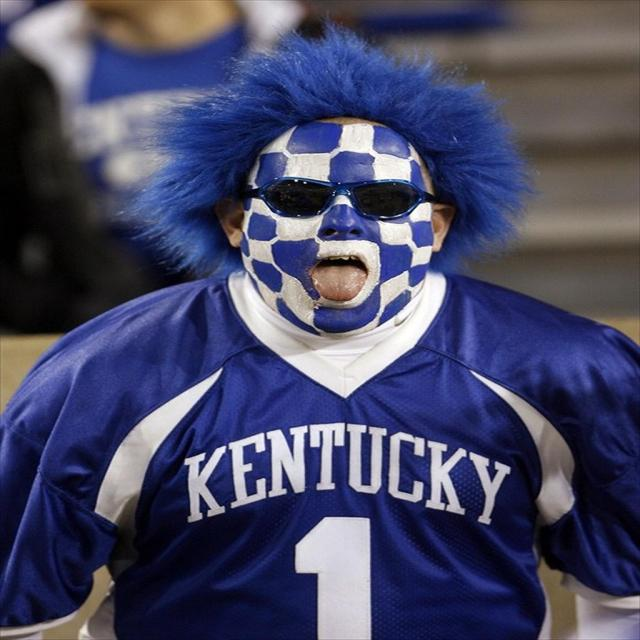nomask: (245, 117, 435, 338)
